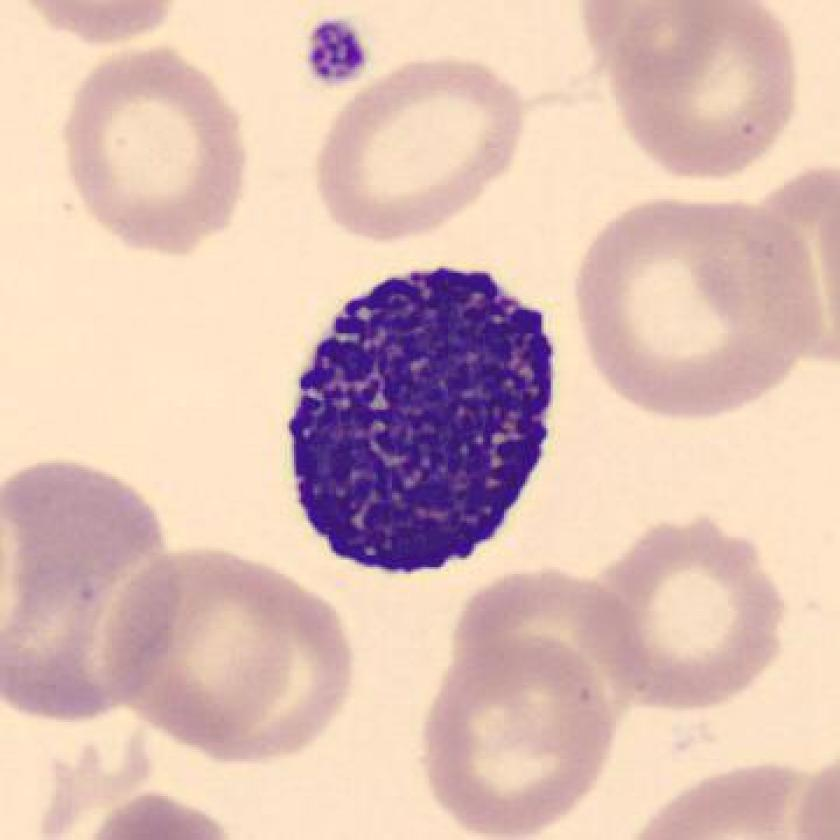basophil: (272, 263, 573, 584)
